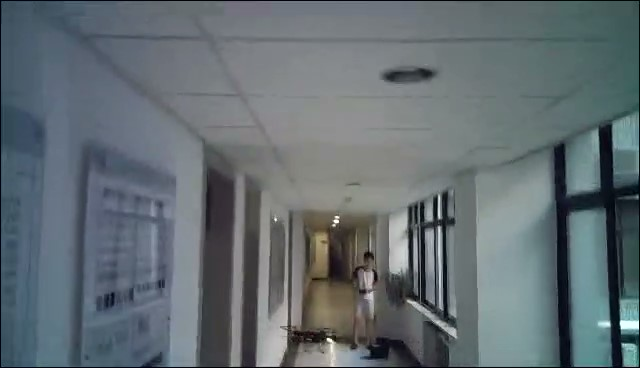drone: (279, 323, 340, 356)
person: (349, 250, 382, 351)
